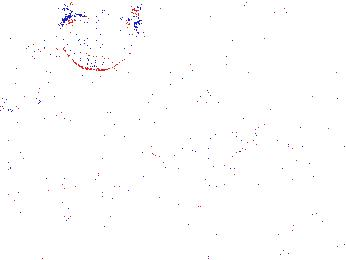moon jellyfish: (140, 82, 240, 179), (59, 14, 137, 71), (1, 29, 53, 111)
